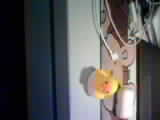duck: (82, 63, 116, 101)
